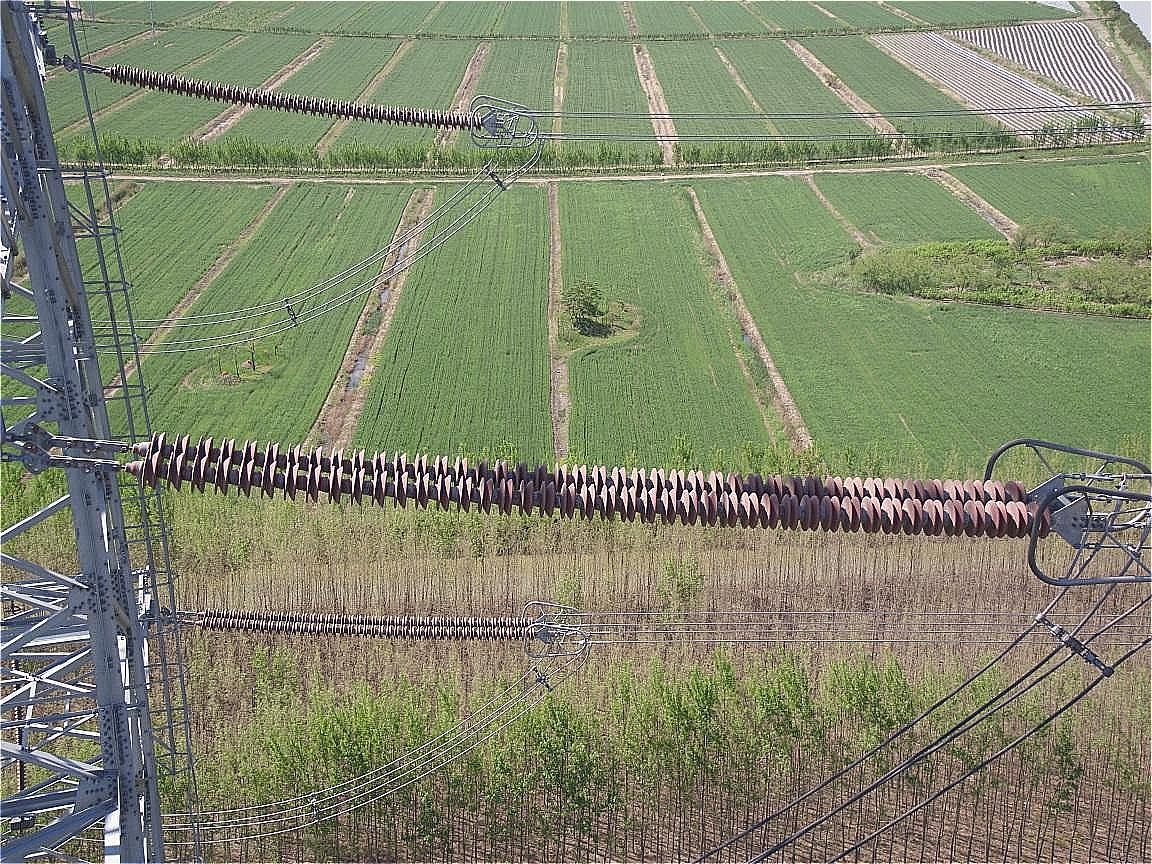insultor2: (57, 430, 1045, 563), (104, 56, 489, 147), (179, 603, 580, 648)
